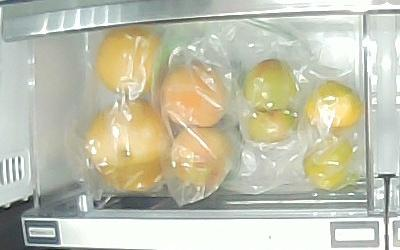peach_vinyl: (159, 63, 228, 128), (171, 126, 230, 189)
pear_vinyl: (87, 99, 173, 193), (97, 27, 165, 98)
tangerine_vinyl: (305, 81, 361, 130), (303, 136, 352, 192)
tomato_vinyl: (244, 59, 297, 112), (245, 105, 298, 143)
